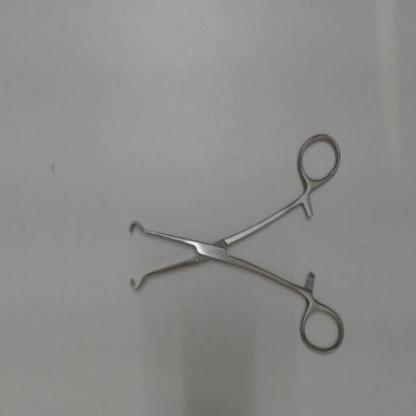Babcock Tissue Forceps: (121, 127, 350, 365)
